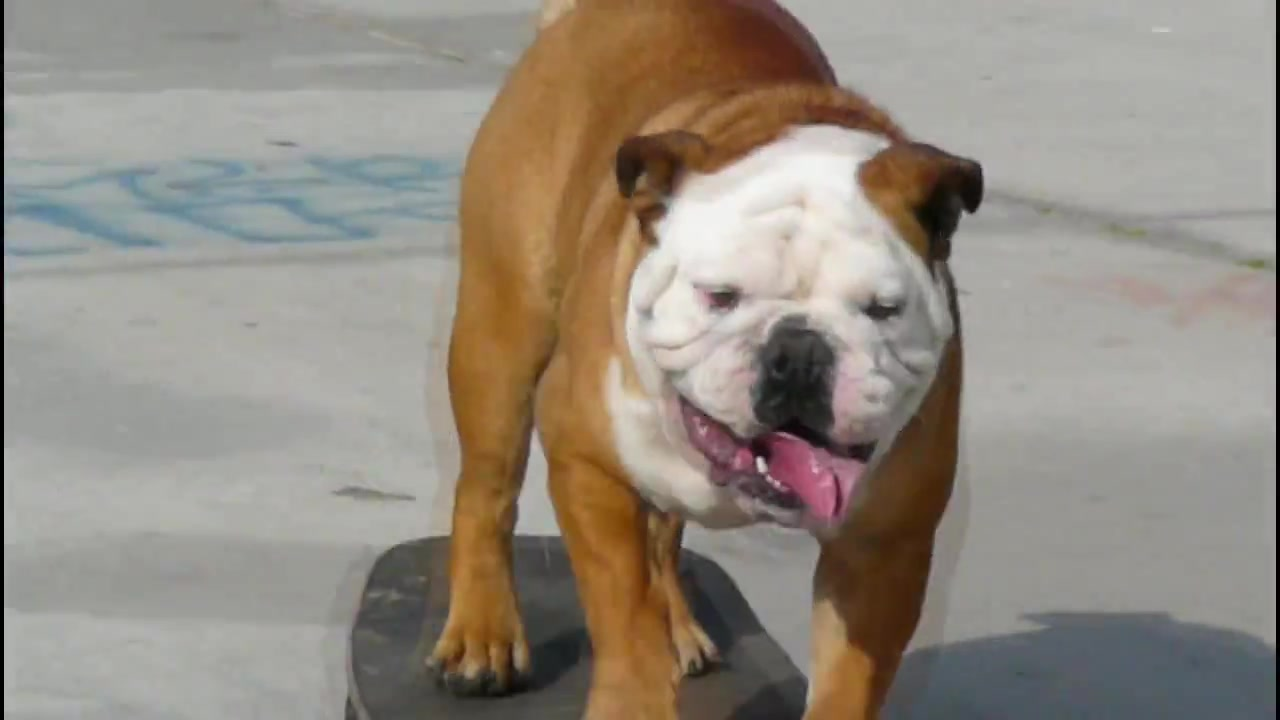dog: (425, 2, 987, 720)
